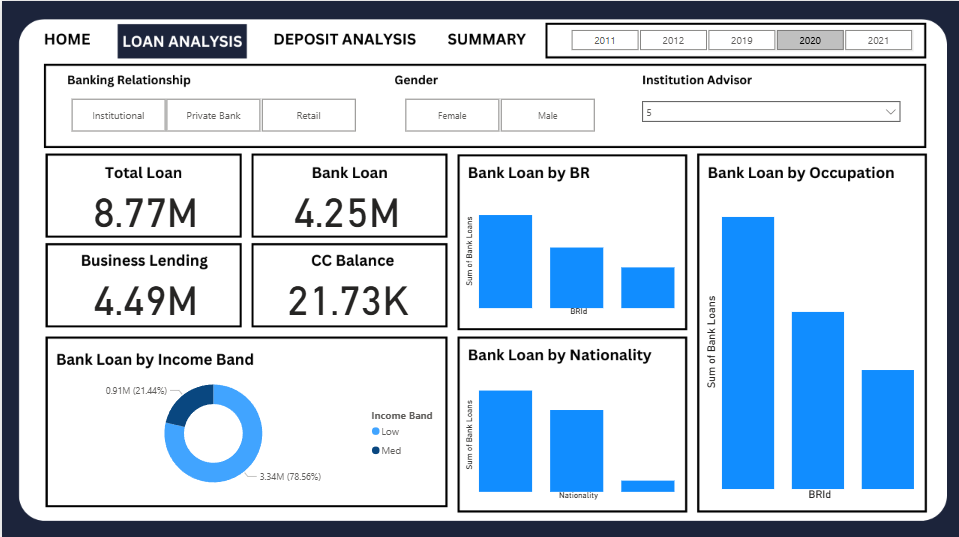

What the dashboard file says about the page in this screenshot:
{"tool":"powerbi","page":{"name":"Loan Analysis","canvas":[1280,720],"ordinal":2},"visuals":[{"type":"slicer","fields":{"Values":["banking_case customer.Year of Joining"]},"box":[733.3,32.2,504.1,34.9],"z":0},{"type":"actionButton","box":[36.4,31.7,99.7,39.6],"z":1000},{"type":"actionButton","box":[348.2,31.7,221.6,39.6],"z":2000},{"type":"actionButton","box":[587.1,31.7,123.4,39.6],"z":3000},{"type":"card","fields":{"Values":["banking_case customer.Total Loan"]},"box":[100.9,243.7,179.5,65.5],"z":4000},{"type":"card","fields":{"Values":["Sum(banking_case customer.Bank Loans)"]},"box":[369.5,243.7,179.5,65.5],"z":5000},{"type":"card","fields":{"Values":["Sum(banking_case customer.Business Lending)"]},"box":[100.9,360.4,179.5,65.5],"z":6000},{"type":"card","fields":{"Values":["Sum(banking_case customer.Credit Card Balance)"]},"box":[370.8,360.4,179.5,65.5],"z":7000},{"type":"donutChart","fields":{"Category":["banking_case customer.Income Band"],"Y":["Sum(banking_case customer.Bank Loans)"]},"box":[66.8,488.8,530.7,176.9],"z":8000},{"type":"clusteredColumnChart","fields":{"Category":["banking_case customer.BRId"],"Y":["Sum(banking_case customer.Bank Loans)"]},"box":[613.3,243.7,293.5,182.1],"z":9000},{"type":"clusteredColumnChart","fields":{"Category":["banking_case customer.Nationality"],"Y":["Sum(banking_case customer.Bank Loans)"]},"box":[613.3,488.8,293.5,182.1],"z":10000},{"type":"clusteredColumnChart","fields":{"Category":["banking_case customer.BRId"],"Y":["Sum(banking_case customer.Bank Loans)"]},"box":[933.7,245.3,292.8,425.7],"z":11000},{"type":"slicer","fields":{"Values":["banking_case customer.BRId"]},"box":[66.8,123.2,428.5,57.7],"z":12000},{"type":"slicer","fields":{"Values":["banking_case customer.GenderId"]},"box":[512.4,123.2,302.7,57.7],"z":13000},{"type":"slicer","fields":{"Values":["banking_case customer.IAId"]},"box":[843.9,123.2,364.3,57.7],"z":14000}]}

Visuals, with their boxes in screenshot pixels (x1, y1, x2, y2), scaled from the page's 1280x720 canvas onto the 959x537 screenshot:
slicer - banking_case customer.Year of Joining: left=549, top=24, right=927, bottom=50
actionButton: left=27, top=24, right=102, bottom=53
actionButton: left=261, top=24, right=427, bottom=53
actionButton: left=440, top=24, right=532, bottom=53
card - banking_case customer.Total Loan: left=76, top=182, right=210, bottom=231
card - Sum(banking_case customer.Bank Loans): left=277, top=182, right=411, bottom=231
card - Sum(banking_case customer.Business Lending): left=76, top=269, right=210, bottom=318
card - Sum(banking_case customer.Credit Card Balance): left=278, top=269, right=412, bottom=318
donutChart - banking_case customer.Income Band x Sum(banking_case customer.Bank Loans): left=50, top=365, right=448, bottom=497
clusteredColumnChart - banking_case customer.BRId x Sum(banking_case customer.Bank Loans): left=459, top=182, right=679, bottom=318
clusteredColumnChart - banking_case customer.Nationality x Sum(banking_case customer.Bank Loans): left=459, top=365, right=679, bottom=500
clusteredColumnChart - banking_case customer.BRId x Sum(banking_case customer.Bank Loans): left=700, top=183, right=919, bottom=500
slicer - banking_case customer.BRId: left=50, top=92, right=371, bottom=135
slicer - banking_case customer.GenderId: left=384, top=92, right=611, bottom=135
slicer - banking_case customer.IAId: left=632, top=92, right=905, bottom=135
